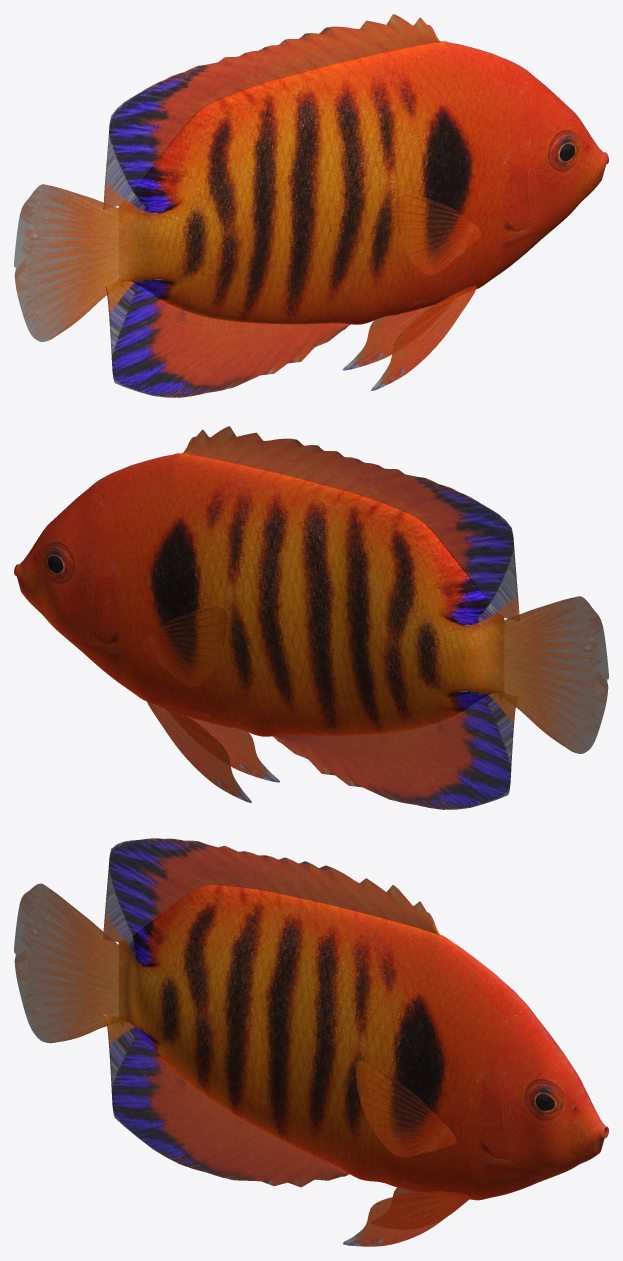
File: loricula-2k0BJu4G.glb
3 renders of one model, top to bottom at view 1: azimuth 30°, elevation 25°; view 2: azimuth 150°, elevation 25°; view 3: azimuth 330°, elevation 25°, orthographic.
Visible parts, largest first — view 1: loricula__body, loricula__fin_2, loricula__fin_1, loricula__fin_0, loricula__pectoral_1, loricula__gill_1, loricula__pelvic_1, loricula__pelvic_-1, loricula__eye_1; view 2: loricula__body, loricula__fin_2, loricula__fin_1, loricula__fin_0, loricula__pectoral_-1, loricula__gill_-1, loricula__pelvic_-1, loricula__pelvic_1, loricula__eye_-1; view 3: loricula__body, loricula__fin_2, loricula__fin_1, loricula__fin_0, loricula__pectoral_1, loricula__gill_1, loricula__pelvic_1, loricula__eye_1.
Boxes of the visible parts, box(x1,y1,x2,y2) form: loricula__body: box(118, 41, 608, 324); loricula__fin_2: box(104, 281, 350, 397); loricula__fin_1: box(103, 14, 440, 209); loricula__fin_0: box(14, 184, 118, 341); loricula__pectoral_1: box(396, 195, 481, 275); loricula__gill_1: box(496, 118, 544, 242); loricula__pelvic_1: box(371, 285, 476, 390); loricula__pelvic_-1: box(343, 305, 434, 370); loricula__eye_1: box(552, 133, 576, 163); loricula__body: box(14, 453, 504, 736); loricula__fin_2: box(272, 693, 515, 809); loricula__fin_1: box(182, 426, 519, 618); loricula__fin_0: box(498, 596, 608, 753); loricula__pectoral_-1: box(141, 607, 226, 687); loricula__gill_-1: box(78, 530, 126, 654); loricula__pelvic_-1: box(146, 697, 251, 802); loricula__pelvic_1: box(188, 717, 279, 782); loricula__eye_-1: box(46, 545, 70, 575); loricula__body: box(118, 885, 608, 1200); loricula__fin_2: box(103, 1014, 349, 1187); loricula__fin_1: box(103, 838, 440, 942); loricula__fin_0: box(14, 883, 118, 1043); loricula__pectoral_1: box(355, 1060, 456, 1157); loricula__gill_1: box(474, 1043, 520, 1165); loricula__pelvic_1: box(343, 1191, 468, 1246); loricula__eye_1: box(529, 1083, 559, 1112).
Size of the model in its own units: 1.22 by 0.7113 by 0.1451.
Materials: 5 (5 with a texture image).
